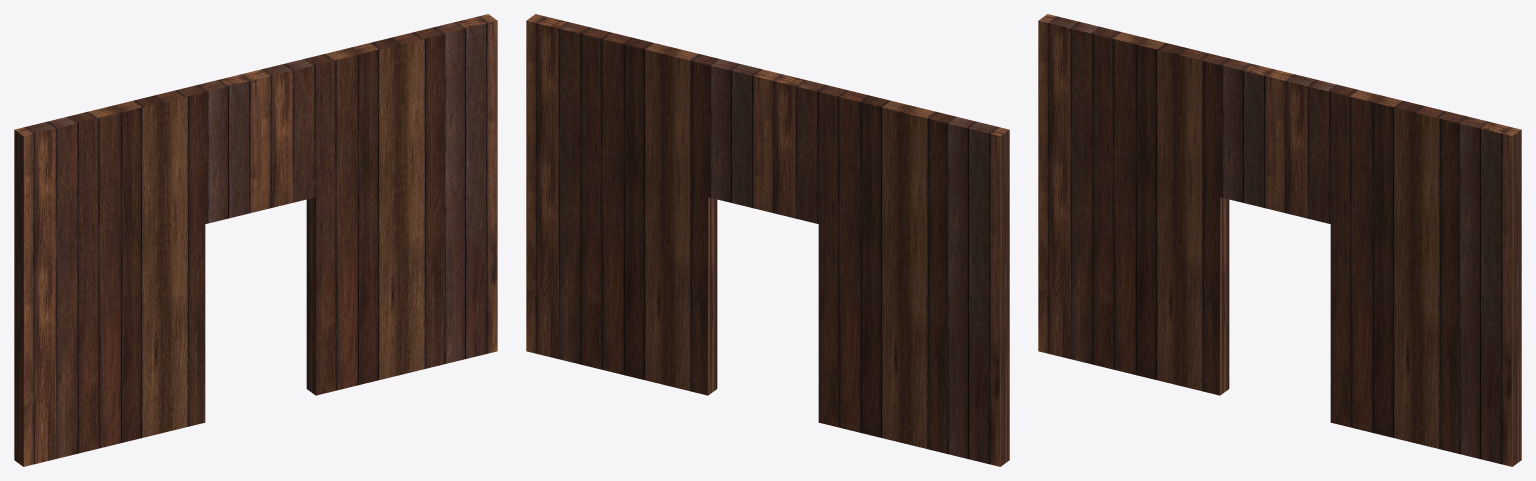
Rendered from doorWall.FBX.
The picture shows the model from 3 angles, left to right: view 1: azimuth 30°, elevation 25°; view 2: azimuth 150°, elevation 25°; view 3: azimuth 330°, elevation 25°; orthographic projection.
Visible parts, largest first — view 1: doorWall; view 2: doorWall; view 3: doorWall.
Boxes of the visible parts, left/top/right/bottom form: doorWall: left=14, top=14, right=497, bottom=466; doorWall: left=526, top=14, right=1009, bottom=466; doorWall: left=1038, top=14, right=1521, bottom=466.
Bounding box in the file's own units: 30 × 20 × 1.
1 material, 1 textured.
